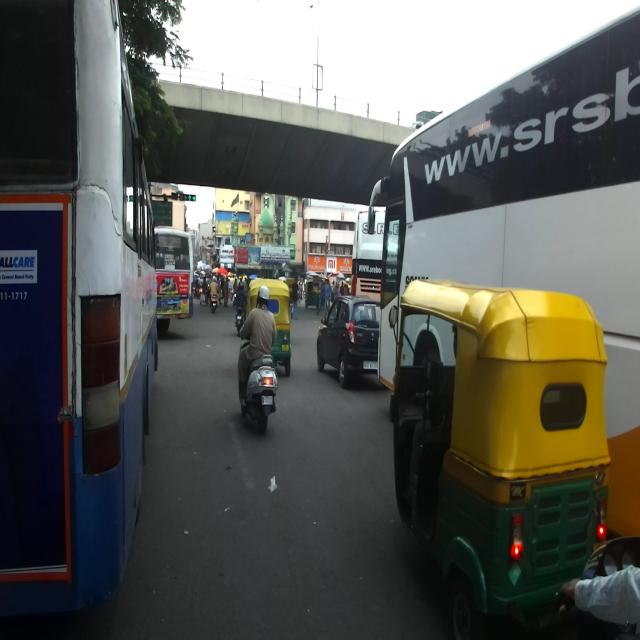Car_Maruti-Suzuki: (316, 294, 385, 390)
autorickshaw: (387, 279, 611, 640), (247, 277, 291, 375), (304, 276, 324, 308), (284, 277, 296, 305)
bus: (366, 6, 640, 538), (0, 0, 158, 617), (154, 226, 194, 332), (351, 206, 386, 312), (335, 281, 337, 291)
scooter: (236, 330, 278, 436)
